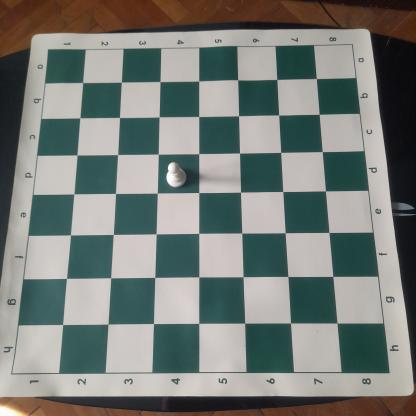white-pawn: (165, 161, 189, 188)
